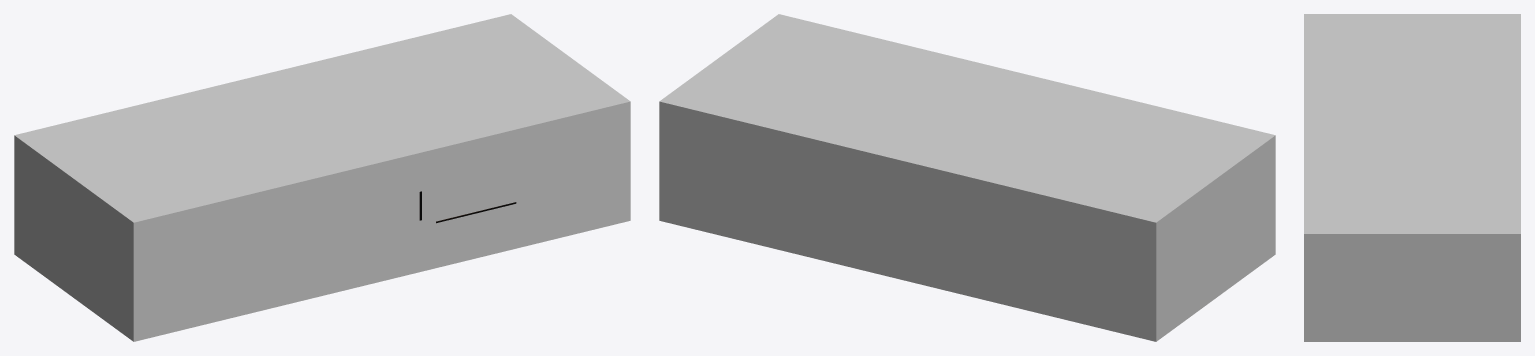
Rendered from MID 3D HOME -.fbx.
3 views of the same model, side by side, from view 1: azimuth 30°, elevation 25°; view 2: azimuth 150°, elevation 25°; view 3: azimuth 270°, elevation 25° (orthographic). The views are drawn at different scales.
Parts seen in each view (by area): view 1: polySurface5, polySurface32, polySurface34, polySurface33, polySurface30; view 2: polySurface5, polySurface37, polySurface35, polySurface36; view 3: polySurface5, polySurface30.
Part boxes in pixels (<box>): polySurface5: <box>14,14,630,341</box>; polySurface32: <box>358,174,406,287</box>; polySurface34: <box>203,208,267,279</box>; polySurface33: <box>496,136,560,206</box>; polySurface30: <box>515,35,601,85</box>; polySurface5: <box>659,14,1275,341</box>; polySurface37: <box>1022,208,1086,279</box>; polySurface35: <box>729,136,793,208</box>; polySurface36: <box>875,172,939,243</box>; polySurface5: <box>1304,14,1520,341</box>; polySurface30: <box>1356,222,1468,233</box>.
Size of the model in its own units: 9.25 by 2.12 by 3.86.
